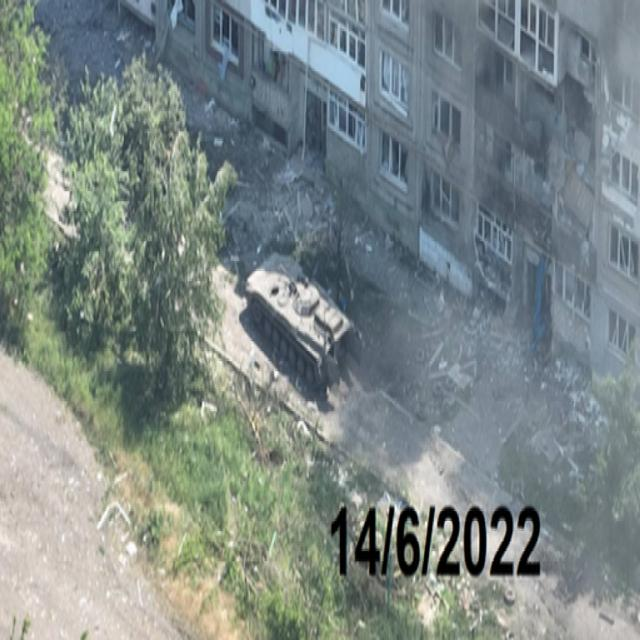APC-IFV: (245, 242, 357, 387)
